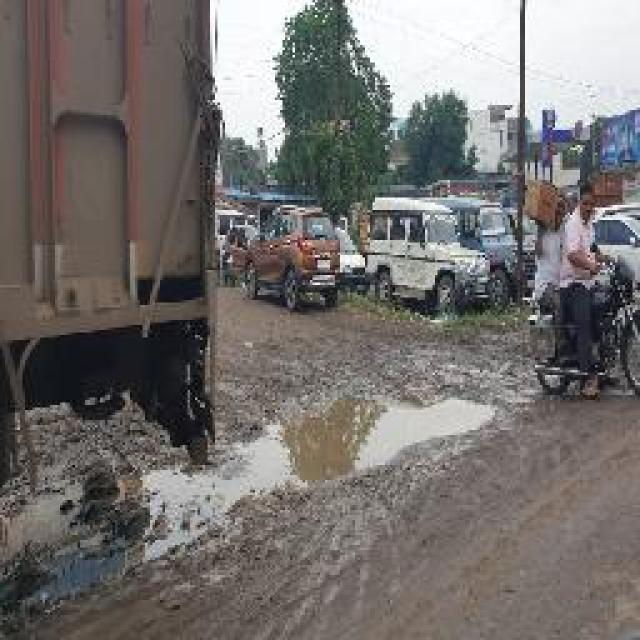waterlogging: (214, 389, 531, 494)
